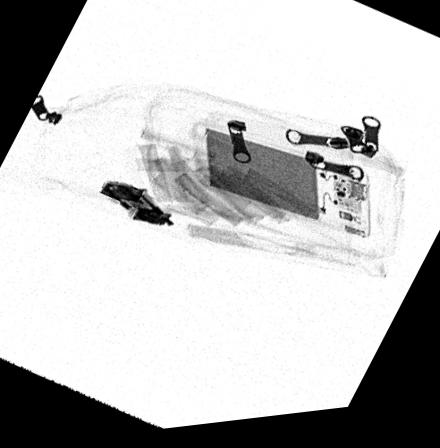Powerbank: (191, 126, 372, 248)
